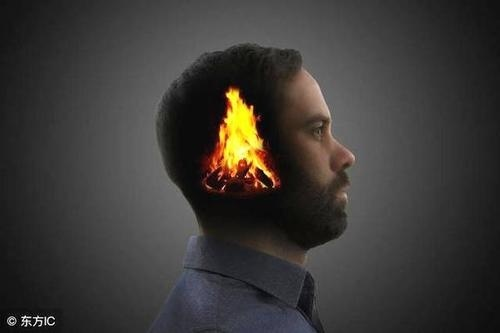fire: (205, 86, 277, 190)
